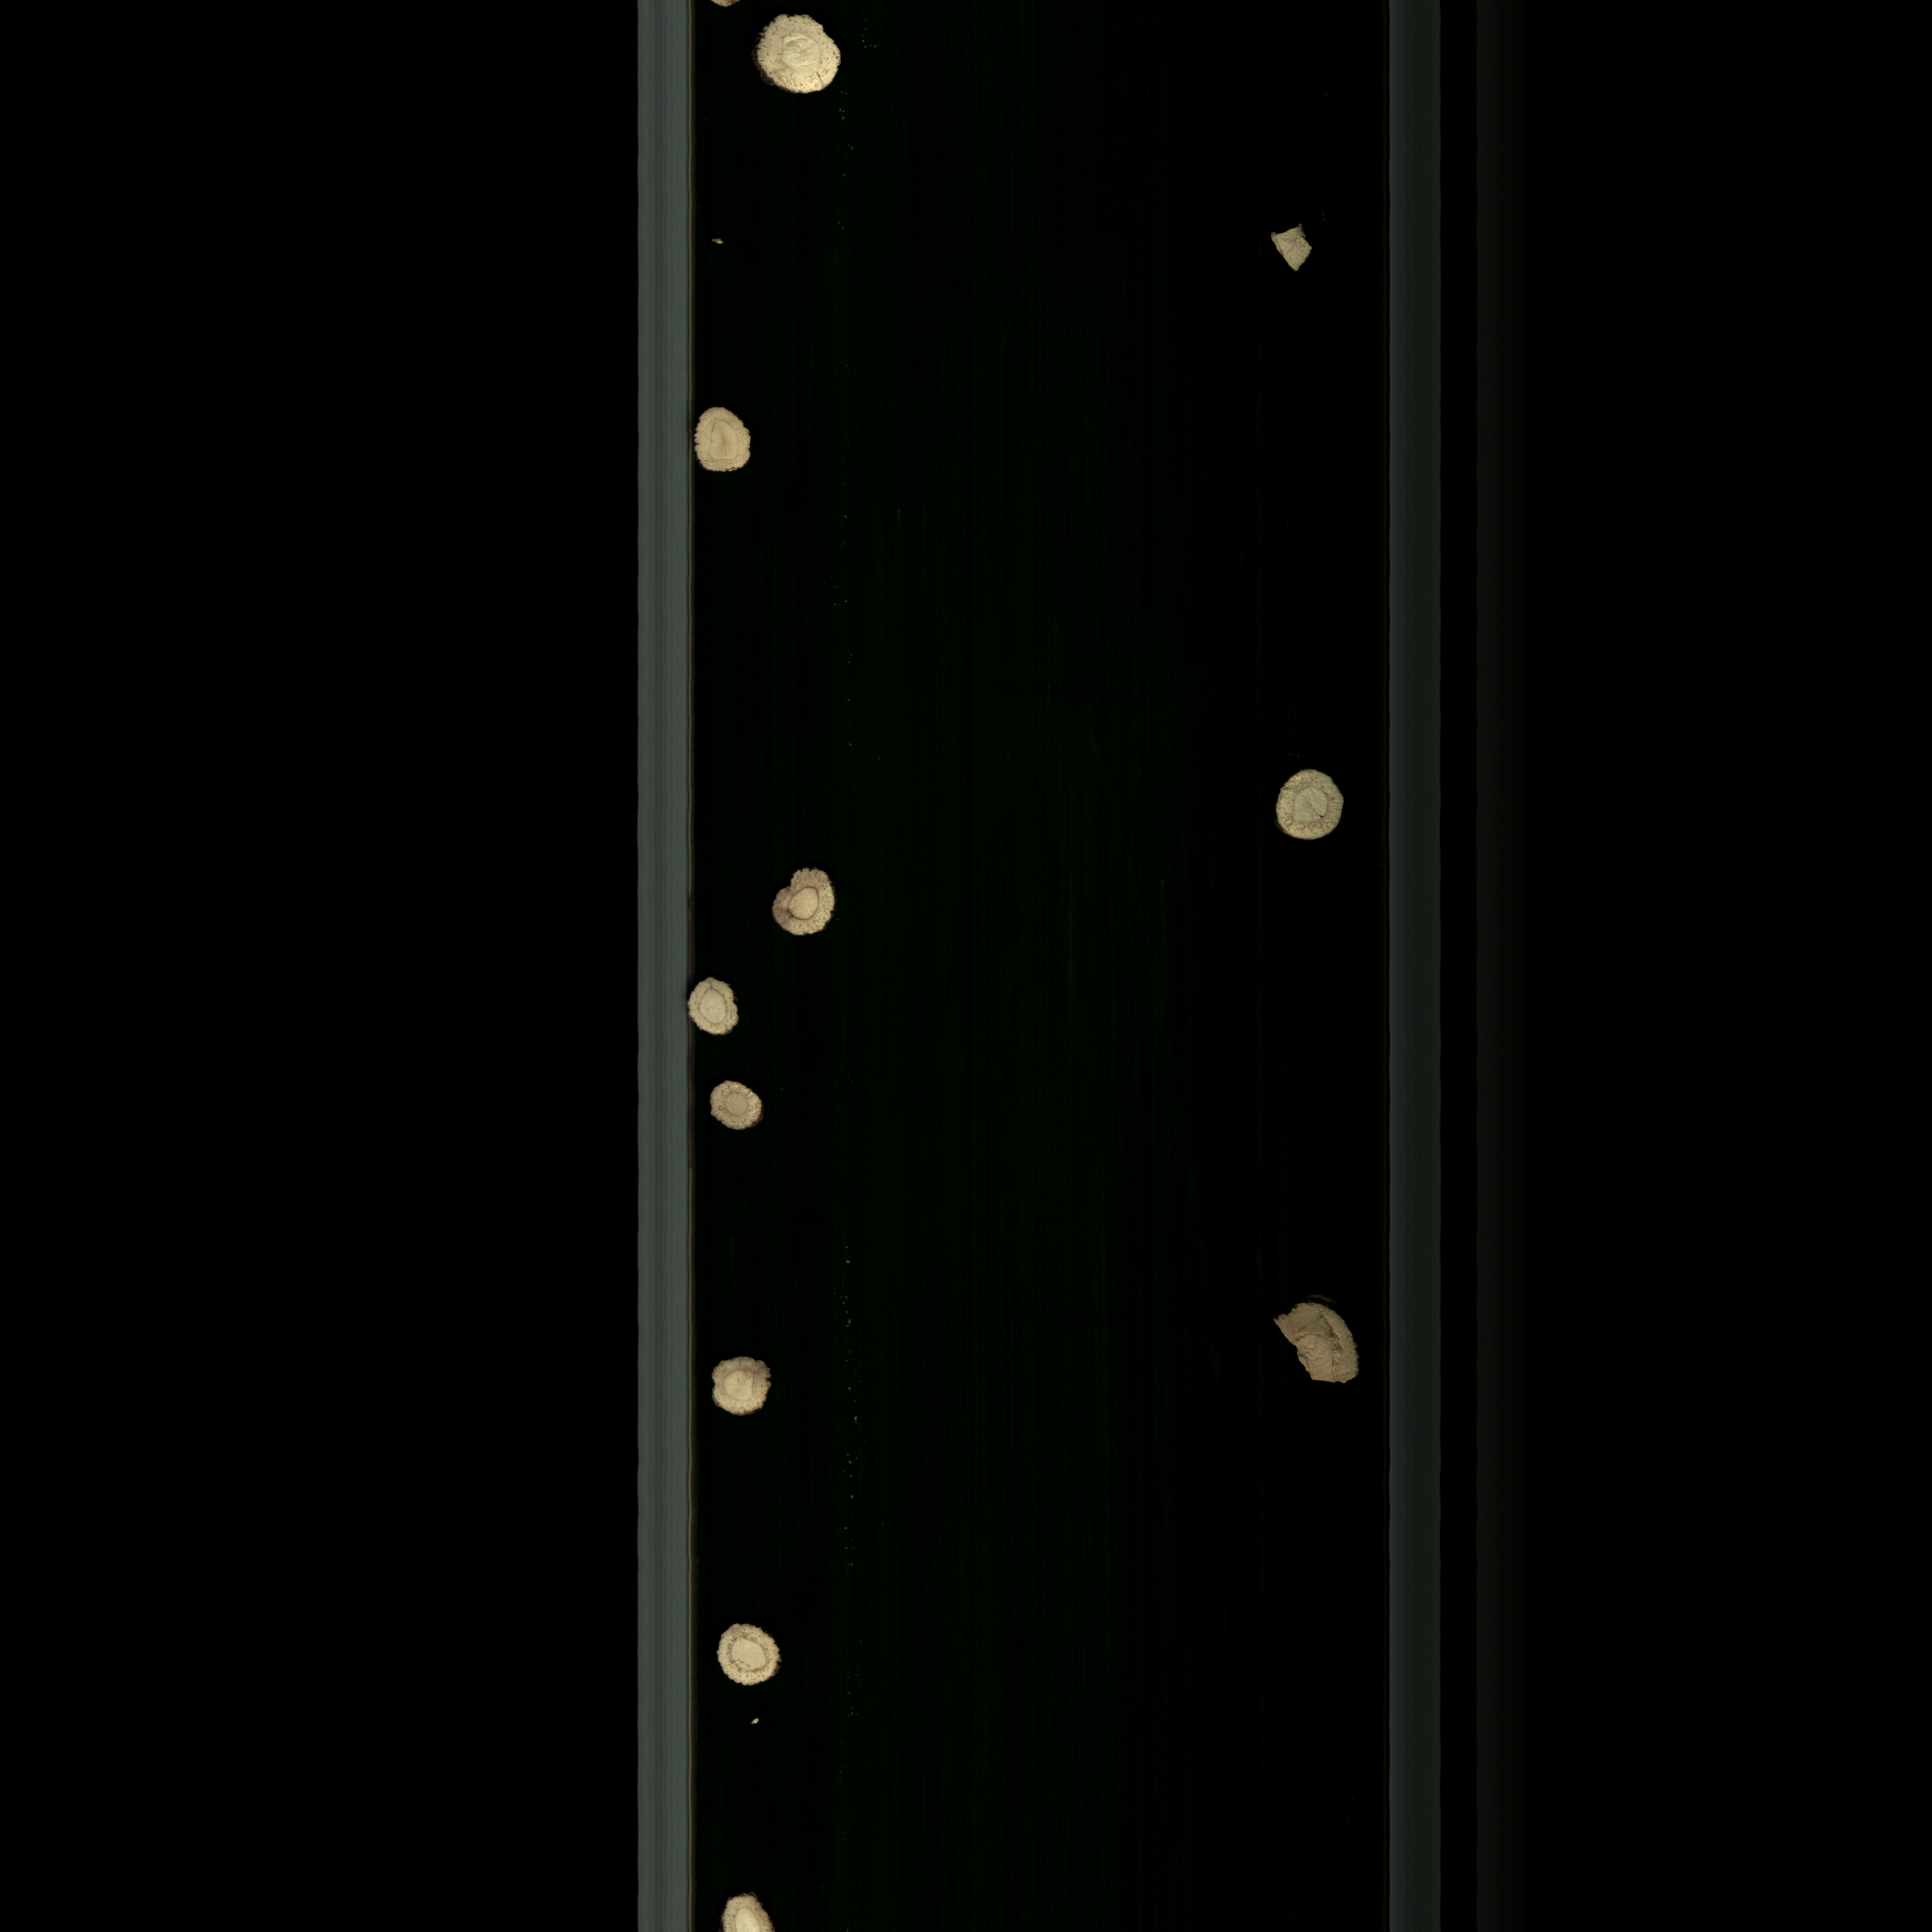dreg: (1260, 216, 1325, 283)
moldy: (1269, 1288, 1373, 1394), (761, 862, 847, 939)
